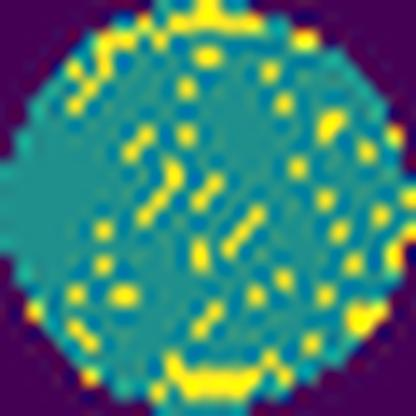Scratch: (62, 0, 266, 118), (146, 349, 295, 403), (133, 152, 190, 227), (218, 202, 272, 260)
